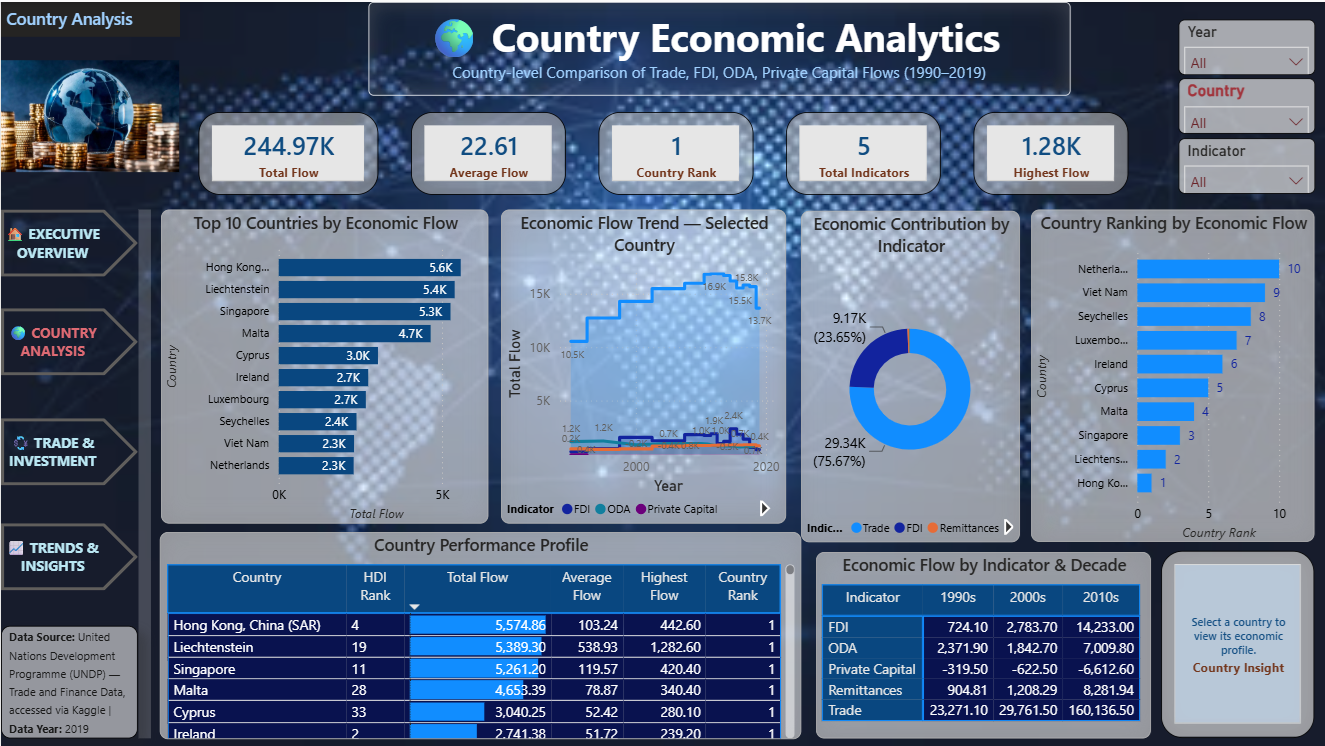

What the dashboard file says about the page in this screenshot:
{"tool":"powerbi","page":{"name":"02. Country & Regional Analysis","canvas":[1280,720],"ordinal":1},"visuals":[{"type":"textbox","box":[355,0,677.6,90.7],"z":0},{"type":"slicer","fields":{"Values":["Dim_Date.Year"]},"box":[1137,17.4,131.6,53.9],"z":0,"group":"g2"},{"type":"textbox","box":[0,0,172.8,33.3],"z":1000},{"type":"slicer","fields":{"Values":["Dim_Country.Country"]},"box":[1137,74.5,131.6,53.9],"z":1000,"group":"g2"},{"type":"group","id":"g1","title":"Group 1","box":[190.6,106.2,897.6,80.8],"z":2000},{"type":"cardVisual","fields":{"Data":["My Measures.Total Flow"]},"box":[190.6,106.3,173.6,80.3],"z":2000,"group":"g1"},{"type":"slicer","fields":{"Values":["Dim_Indicator.Indicator"]},"box":[1137,131.6,131.6,53.9],"z":2000,"group":"g2"},{"type":"cardVisual","fields":{"Data":["My Measures.Average Flow"]},"box":[395.8,106.2,149.7,80.3],"z":3000,"group":"g1"},{"type":"tableEx","title":"Country Performance Profile","fields":{"Values":["Dim_Country.Country","Dim_Country.HDI Rank","My Measures.Total Flow","My Measures.Average Flow","My Measures.Highest Flow","My Measures.Country Rank"]},"box":[153.2,511.5,618.9,200.3],"z":3000},{"type":"cardVisual","fields":{"Data":["My Measures.Country Rank"]},"box":[576.7,106.2,149.7,80.3],"z":4000,"group":"g1"},{"type":"lineChart","title":"Economic Flow Trend — Selected Country","fields":{"Category":["Dim_Date.Year"],"Y":["My Measures.Total Flow"],"Series":["Dim_Indicator.Indicator"]},"box":[482.6,200.3,275.1,302.8],"z":4000},{"type":"cardVisual","fields":{"Data":["My Measures.Total Indicators"]},"box":[757.6,106.2,149.7,80.3],"z":5000,"group":"g1"},{"type":"clusteredBarChart","title":"Top 10 Countries by Economic Flow","fields":{"Category":["Dim_Country.Country"],"Y":["My Measures.Total Flow"]},"box":[154.4,200.3,316.1,302.8],"z":5000},{"type":"cardVisual","fields":{"Data":["My Measures.Highest Flow"]},"box":[938.4,106.2,149.7,80.3],"z":6000,"group":"g1"},{"type":"clusteredBarChart","title":"Country Ranking by Economic Flow","fields":{"Category":["Dim_Country.Country"],"Y":["My Measures.Country Rank"]},"box":[994.1,200.3,273.9,320.9],"z":6000},{"type":"textbox","box":[132.7,200.3,12.1,510.3],"z":7000},{"type":"group","id":"g2","title":"Group 2","box":[1137,17.4,131.6,168.1],"z":8000},{"type":"actionButton","box":[0,200.8,132.1,64.8],"z":9000},{"type":"actionButton","box":[0,295.4,132.1,64.8],"z":10000},{"type":"actionButton","box":[0,401.6,132.1,64.8],"z":11000},{"type":"actionButton","box":[0,502.7,132.1,64.8],"z":12000},{"type":"textbox","box":[0,602.4,132.1,108.8],"z":13000},{"type":"image","box":[0,33.7,172.3,152.9],"z":14000},{"type":"donutChart","title":"Economic Contribution by Indicator","fields":{"Category":["Dim_Indicator.Indicator"],"Y":["My Measures.Total Flow"]},"box":[772.1,201.5,211.1,319.7],"z":15000},{"type":"pivotTable","title":"Economic Flow by Indicator & Decade","fields":{"Rows":["Dim_Indicator.Indicator"],"Columns":["Dim_Date.Decade"],"Values":["My Measures.Total Flow"]},"box":[786.6,530.8,323.3,179.8],"z":16000},{"type":"cardVisual","title":"Country Insight","fields":{"Data":["My Measures.Country Insight"]},"box":[1119.6,529.6,148.4,181],"z":17000}]}

Visuals, with their boxes in screenshot pixels (x1, y1, x2, y2), scaled from the page's 1280x720 canvas onto the 1325x746 screenshot:
textbox: l=367, t=0, r=1069, b=94
slicer - Dim_Date.Year: l=1177, t=18, r=1313, b=74
textbox: l=0, t=0, r=179, b=35
slicer - Dim_Country.Country: l=1177, t=77, r=1313, b=133
"Group 1" group: l=197, t=110, r=1126, b=194
cardVisual - My Measures.Total Flow: l=197, t=110, r=377, b=193
slicer - Dim_Indicator.Indicator: l=1177, t=136, r=1313, b=192
cardVisual - My Measures.Average Flow: l=410, t=110, r=565, b=193
"Country Performance Profile" tableEx: l=159, t=530, r=799, b=738
cardVisual - My Measures.Country Rank: l=597, t=110, r=752, b=193
"Economic Flow Trend — Selected Country" lineChart: l=500, t=208, r=784, b=521
cardVisual - My Measures.Total Indicators: l=784, t=110, r=939, b=193
"Top 10 Countries by Economic Flow" clusteredBarChart: l=160, t=208, r=487, b=521
cardVisual - My Measures.Highest Flow: l=971, t=110, r=1126, b=193
"Country Ranking by Economic Flow" clusteredBarChart: l=1029, t=208, r=1313, b=540
textbox: l=137, t=208, r=150, b=736
"Group 2" group: l=1177, t=18, r=1313, b=192
actionButton: l=0, t=208, r=137, b=275
actionButton: l=0, t=306, r=137, b=373
actionButton: l=0, t=416, r=137, b=483
actionButton: l=0, t=521, r=137, b=588
textbox: l=0, t=624, r=137, b=737
image: l=0, t=35, r=178, b=193
"Economic Contribution by Indicator" donutChart: l=799, t=209, r=1018, b=540
"Economic Flow by Indicator & Decade" pivotTable: l=814, t=550, r=1149, b=736
"Country Insight" cardVisual: l=1159, t=549, r=1313, b=736
